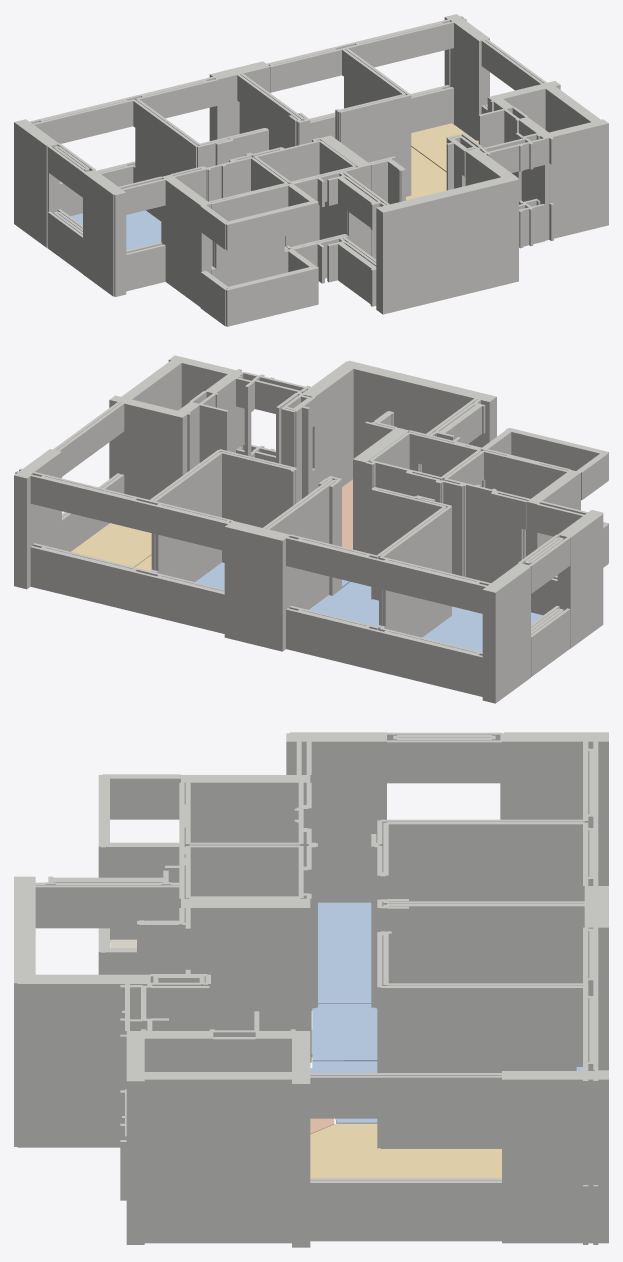
The picture shows the model from 3 angles, top to bottom: view 1: azimuth 30°, elevation 25°; view 2: azimuth 150°, elevation 25°; view 3: azimuth 270°, elevation 25°; orthographic projection. The views are drawn at different scales.
Parts seen in each view (by area): view 1: walls, room:living:4, room:living:3, room:bedroom:0; view 2: walls, room:living:4, room:bedroom:2, room:bedroom:0, room:kitchen:10, room:bedroom:1; view 3: walls, room:living:3, room:bedroom:0, room:bedroom:2, room:bedroom:1.
Part boxes in pixels (x1,y1,x2,y2): walls: (14,14,608,326); room:living:4: (411,123,478,172); room:living:3: (406,147,446,200); room:bedroom:0: (71,210,161,250); walls: (14,355,608,703); room:living:4: (71,523,151,567); room:bedroom:2: (309,582,378,626); room:bedroom:0: (422,606,542,652); room:kitchen:10: (342,479,352,549); room:bedroom:1: (195,562,350,589); walls: (14,732,608,1247); room:living:3: (310,1123,501,1178); room:bedroom:0: (318,902,371,1005); room:bedroom:2: (311,1004,377,1061); room:bedroom:1: (310,1061,582,1123).
Size of the model in its own units: 12.89 by 2.8 by 9.22.
